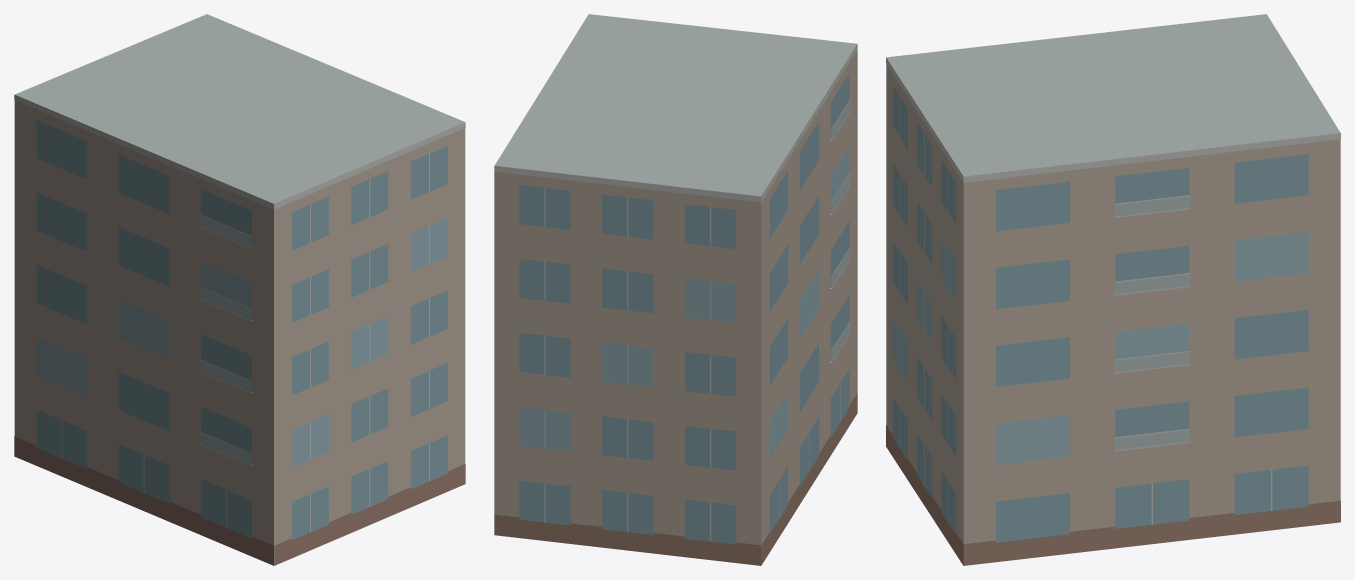
The model's file is survey-upis-32713765.glb.
3 views of the same model, side by side, from view 1: azimuth 30°, elevation 25°; view 2: azimuth 150°, elevation 25°; view 3: azimuth 270°, elevation 25° (orthographic). The views are drawn at different scales.
Visible parts, largest first — view 1: survey-upis-32713765.tmp; view 2: survey-upis-32713765.tmp; view 3: survey-upis-32713765.tmp.
Part boxes in pixels (<box>): survey-upis-32713765.tmp: <box>14,14,465,565</box>; survey-upis-32713765.tmp: <box>494,14,857,565</box>; survey-upis-32713765.tmp: <box>886,14,1340,565</box>.
Size of the model in its own units: 13.68 by 15.25 by 16.16.
